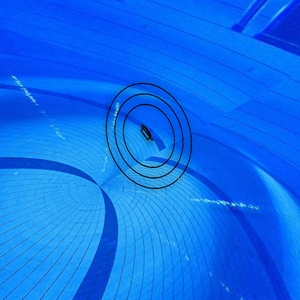circle: (101, 77, 196, 193)
submarine: (136, 123, 157, 146)
